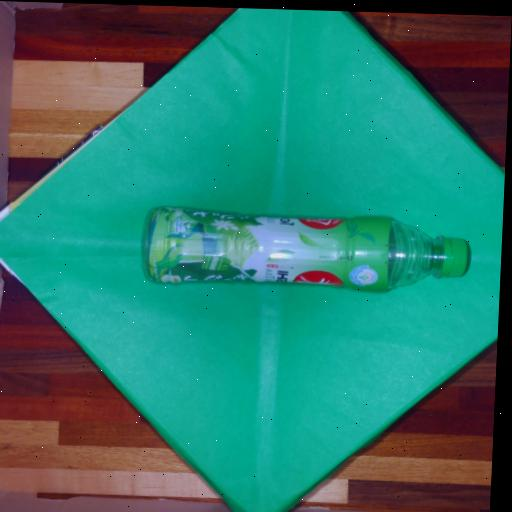bottle: (144, 208, 468, 292)
